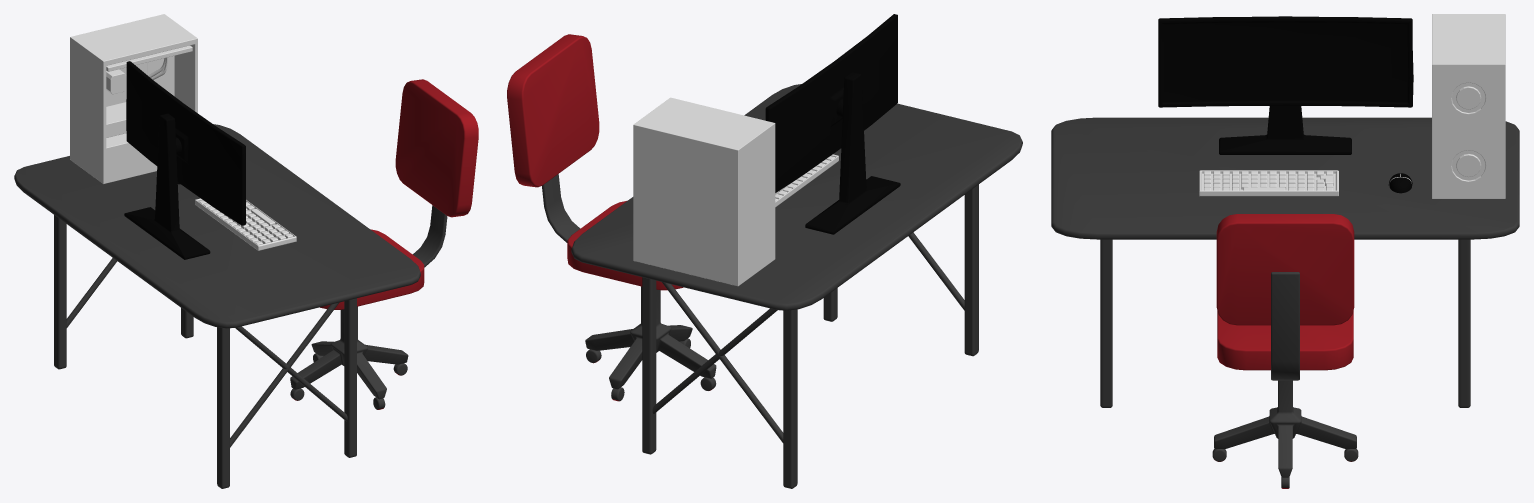
The model's file is Pc_setup.fbx.
The picture shows the model from 3 angles, left to right: view 1: azimuth 30°, elevation 25°; view 2: azimuth 150°, elevation 25°; view 3: azimuth 270°, elevation 25°; orthographic projection. The views are drawn at different scales.
Parts seen in each view (by area): view 1: Plane.002, Plane, Plane.005, Plane.003, Plane.001; view 2: Plane.002, Plane.005, Plane, Plane.003, Plane.001; view 3: Plane.002, Plane.003, Plane, Plane.005, Plane.001.
Part boxes in pixels (bbox=[...]): Plane.002: bbox=[14, 124, 420, 488]; Plane: bbox=[290, 79, 478, 409]; Plane.005: bbox=[70, 14, 197, 183]; Plane.003: bbox=[124, 61, 245, 259]; Plane.001: bbox=[195, 198, 296, 250]; Plane.002: bbox=[571, 84, 1022, 488]; Plane.005: bbox=[633, 97, 775, 286]; Plane: bbox=[507, 34, 716, 401]; Plane.003: bbox=[765, 14, 900, 234]; Plane.001: bbox=[775, 154, 838, 207]; Plane.002: bbox=[1051, 117, 1519, 407]; Plane.003: bbox=[1158, 16, 1413, 154]; Plane: bbox=[1212, 214, 1358, 488]; Plane.005: bbox=[1432, 14, 1505, 198]; Plane.001: bbox=[1199, 170, 1338, 196].
Bounding box in the file's own units: 184 × 167 × 200.
